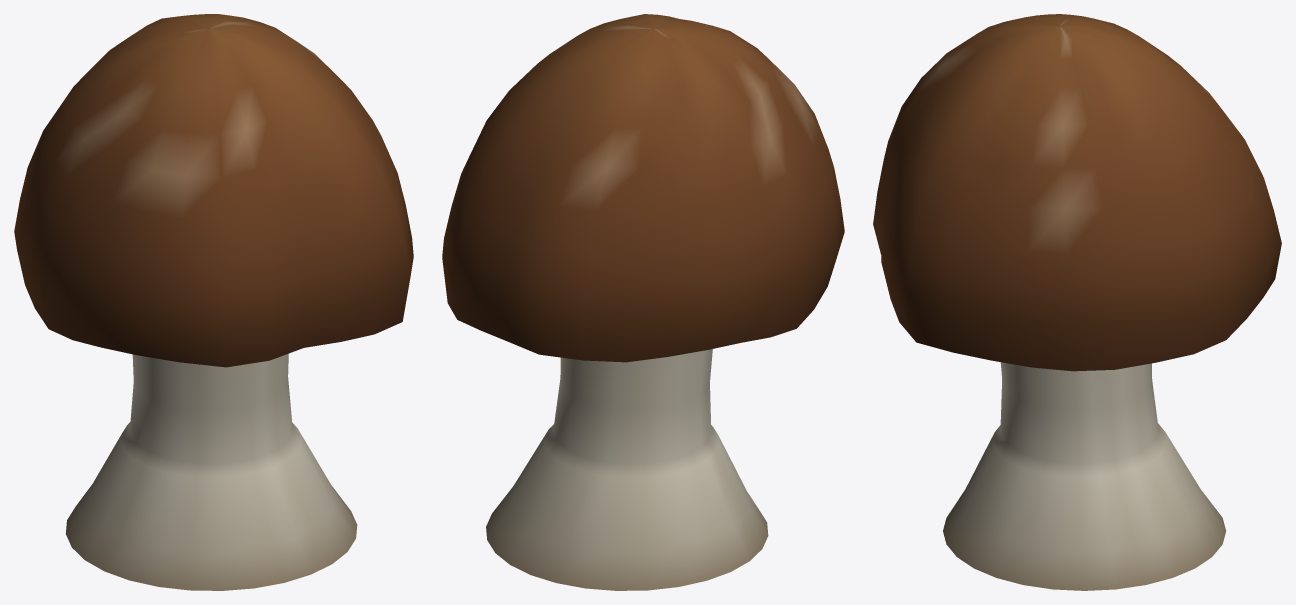
File: mushroom-giant-bolete-b.glb
3 renders of one model, left to right at view 1: azimuth 30°, elevation 25°; view 2: azimuth 150°, elevation 25°; view 3: azimuth 270°, elevation 25°, orthographic. The views are drawn at different scales.
Parts seen in each view (by area): view 1: mushroom-giant-bolete-b; view 2: mushroom-giant-bolete-b; view 3: mushroom-giant-bolete-b.
Part boxes in pixels (x1,y1,x2,y2): mushroom-giant-bolete-b: [14, 14, 413, 590]; mushroom-giant-bolete-b: [442, 14, 844, 590]; mushroom-giant-bolete-b: [873, 14, 1281, 590].
Bounding box in the file's own units: 0.8738 × 1.25 × 0.9304.
